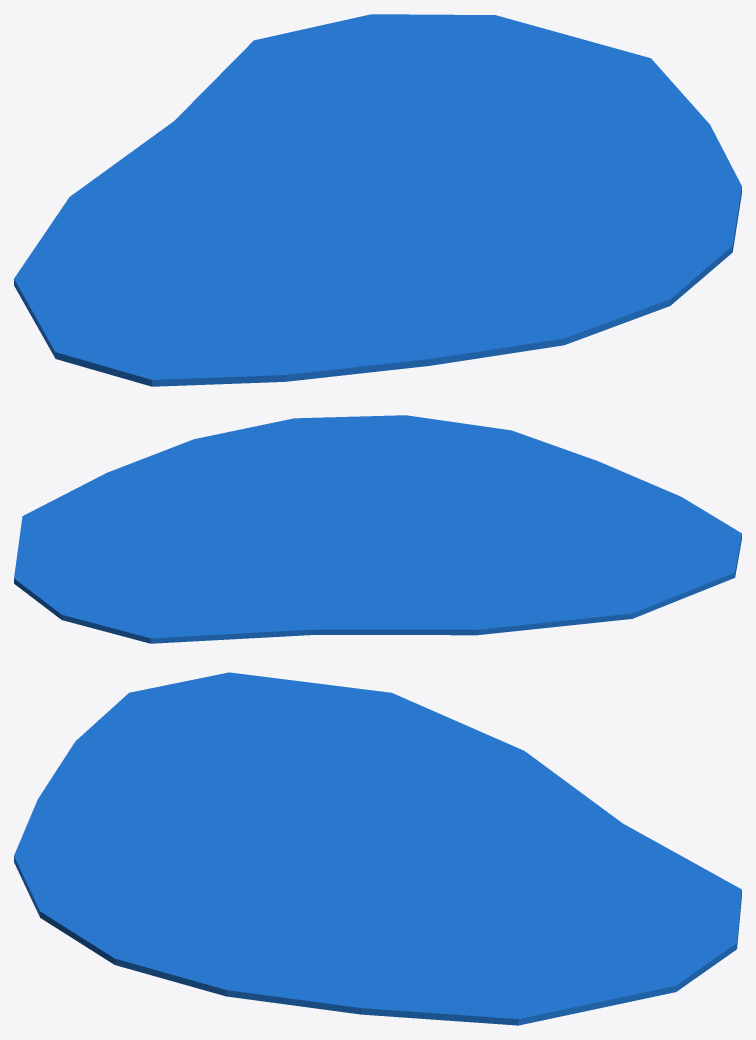
Rendered from Water Spill.fbx.
The picture shows the model from 3 angles, top to bottom: view 1: azimuth 30°, elevation 25°; view 2: azimuth 150°, elevation 25°; view 3: azimuth 270°, elevation 25°; orthographic projection. The views are drawn at different scales.
Parts seen in each view (by area): view 1: Circle, Circle_cell.014, Circle_cell.006, Circle_cell.016, Circle_cell.015, Circle_cell.023, Circle_cell.017, Circle_cell.019, Circle_cell.020, Circle_cell.001, Circle_cell, Circle_cell.027 (+5 smaller); view 2: Circle, Circle_cell.014, Circle_cell.006, Circle_cell.015, Circle_cell.016, Circle_cell.017, Circle_cell.023, Circle_cell.019, Circle_cell, Circle_cell.020, Circle_cell.001, Circle_cell.004 (+1 smaller); view 3: Circle, Circle_cell.014, Circle_cell.006, Circle_cell.015, Circle_cell.016, Circle_cell.017, Circle_cell.019, Circle_cell.020, Circle_cell.001, Circle_cell.023, Circle_cell, Circle_cell.004 (+2 smaller).
Part boxes in pixels (bbox=[...]): Circle: bbox=[14, 15, 741, 386]; Circle_cell.014: bbox=[403, 15, 680, 121]; Circle_cell.006: bbox=[113, 62, 337, 200]; Circle_cell.016: bbox=[72, 192, 238, 321]; Circle_cell.015: bbox=[320, 63, 501, 148]; Circle_cell.023: bbox=[496, 121, 684, 189]; Circle_cell.017: bbox=[198, 144, 389, 207]; Circle_cell.019: bbox=[361, 141, 498, 205]; Circle_cell.020: bbox=[293, 14, 465, 64]; Circle_cell.001: bbox=[33, 166, 144, 254]; Circle_cell: bbox=[169, 31, 316, 124]; Circle_cell.027: bbox=[210, 208, 353, 247]; Circle: bbox=[21, 415, 741, 642]; Circle_cell.014: bbox=[14, 494, 183, 588]; Circle_cell.006: bbox=[162, 573, 439, 634]; Circle_cell.015: bbox=[133, 528, 284, 609]; Circle_cell.016: bbox=[435, 555, 648, 609]; Circle_cell.017: bbox=[285, 533, 439, 590]; Circle_cell.023: bbox=[143, 465, 261, 533]; Circle_cell.019: bbox=[219, 514, 365, 563]; Circle_cell: bbox=[121, 611, 320, 643]; Circle_cell.020: bbox=[26, 586, 161, 632]; Circle_cell.001: bbox=[411, 606, 579, 635]; Circle_cell.004: bbox=[66, 457, 176, 502]; Circle: bbox=[14, 672, 740, 1025]; Circle_cell.014: bbox=[415, 929, 689, 1025]; Circle_cell.006: bbox=[456, 780, 668, 901]; Circle_cell.015: bbox=[431, 870, 665, 937]; Circle_cell.016: bbox=[247, 713, 496, 794]; Circle_cell.017: bbox=[353, 793, 499, 874]; Circle_cell.019: bbox=[334, 858, 478, 925]; Circle_cell.020: bbox=[624, 901, 740, 979]; Circle_cell.001: bbox=[412, 712, 564, 780]; Circle_cell.023: bbox=[275, 924, 464, 976]; Circle_cell: bbox=[618, 820, 741, 910]; Circle_cell.004: bbox=[256, 975, 438, 1019].
Size of the model in its own units: 239 by 2.08 by 212.
